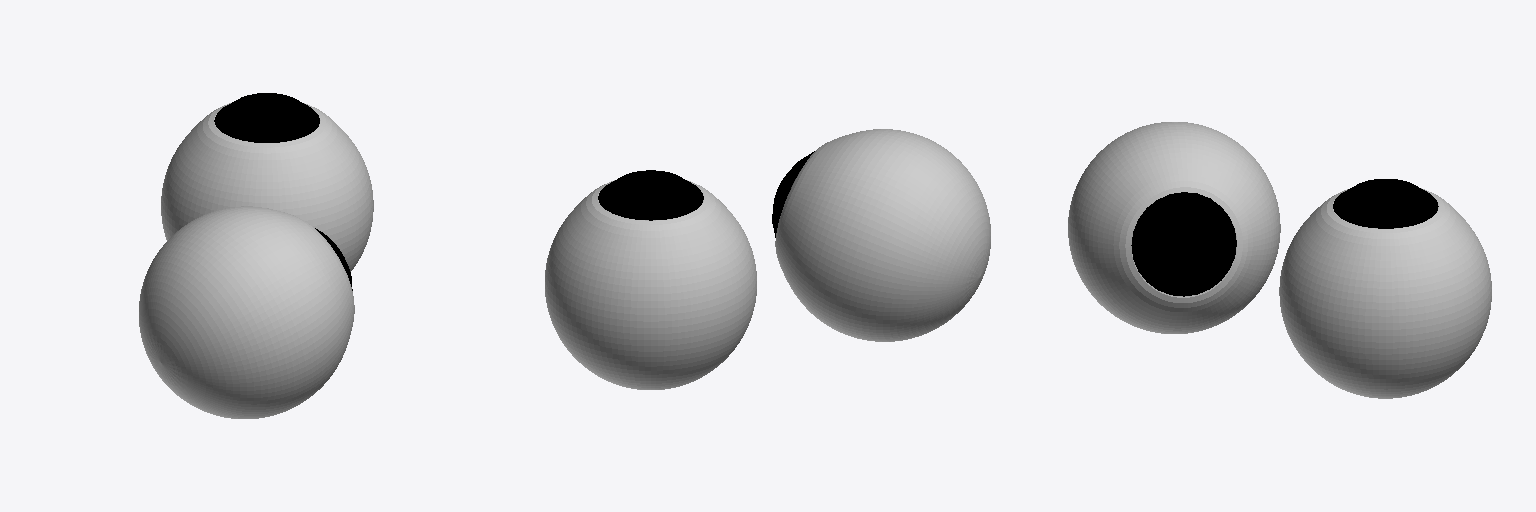
The model's file is Olhos.obj.
3 renders of one model, left to right at view 1: azimuth 30°, elevation 25°; view 2: azimuth 150°, elevation 25°; view 3: azimuth 270°, elevation 25°, orthographic.
Parts seen in each view (by area): view 1: Olho_1, Olho, Cornea; view 2: Olho_1, Olho, Cornea, Cornea_1; view 3: Olho, Olho_1, Cornea_1, Cornea.
Part boxes in pixels (bbox=[...]): Olho_1: bbox=[139, 206, 354, 418]; Olho: bbox=[161, 103, 373, 271]; Cornea: bbox=[214, 93, 319, 142]; Olho_1: bbox=[775, 129, 990, 341]; Olho: bbox=[545, 180, 756, 389]; Cornea: bbox=[598, 170, 703, 220]; Cornea_1: bbox=[772, 151, 814, 237]; Olho: bbox=[1279, 188, 1491, 398]; Olho_1: bbox=[1068, 122, 1280, 333]; Cornea_1: bbox=[1131, 192, 1236, 296]; Cornea: bbox=[1333, 179, 1438, 228].
Bounding box in the file's own units: 3.99 × 2.49 × 4.68.